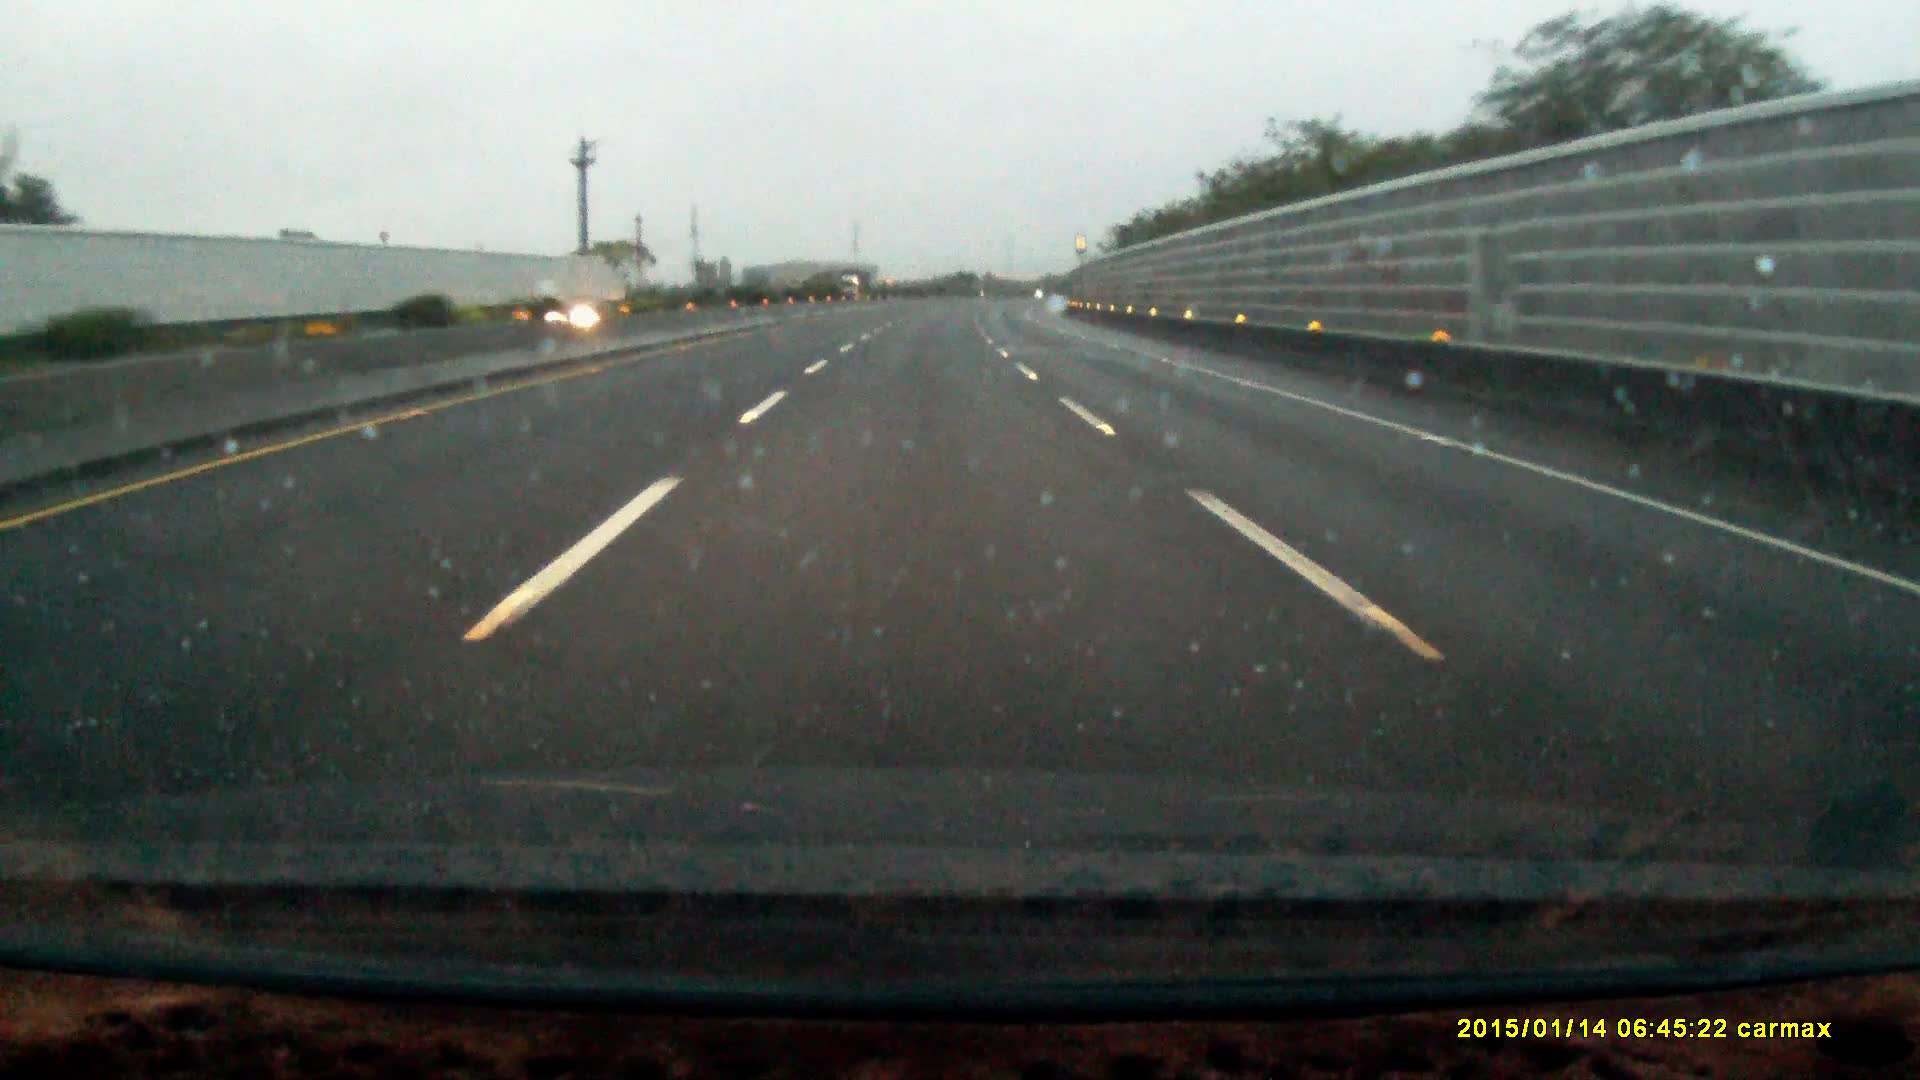vehicle: (542, 295, 624, 342), (839, 273, 873, 305)
